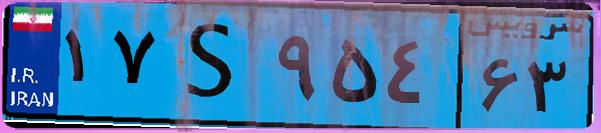1: (57, 26, 110, 100)
3: (525, 38, 570, 115)
4: (385, 28, 445, 110)
5: (330, 28, 385, 110)
6: (475, 38, 525, 113)
7: (110, 28, 158, 98)
9: (270, 28, 330, 110)
S: (158, 12, 270, 120)
